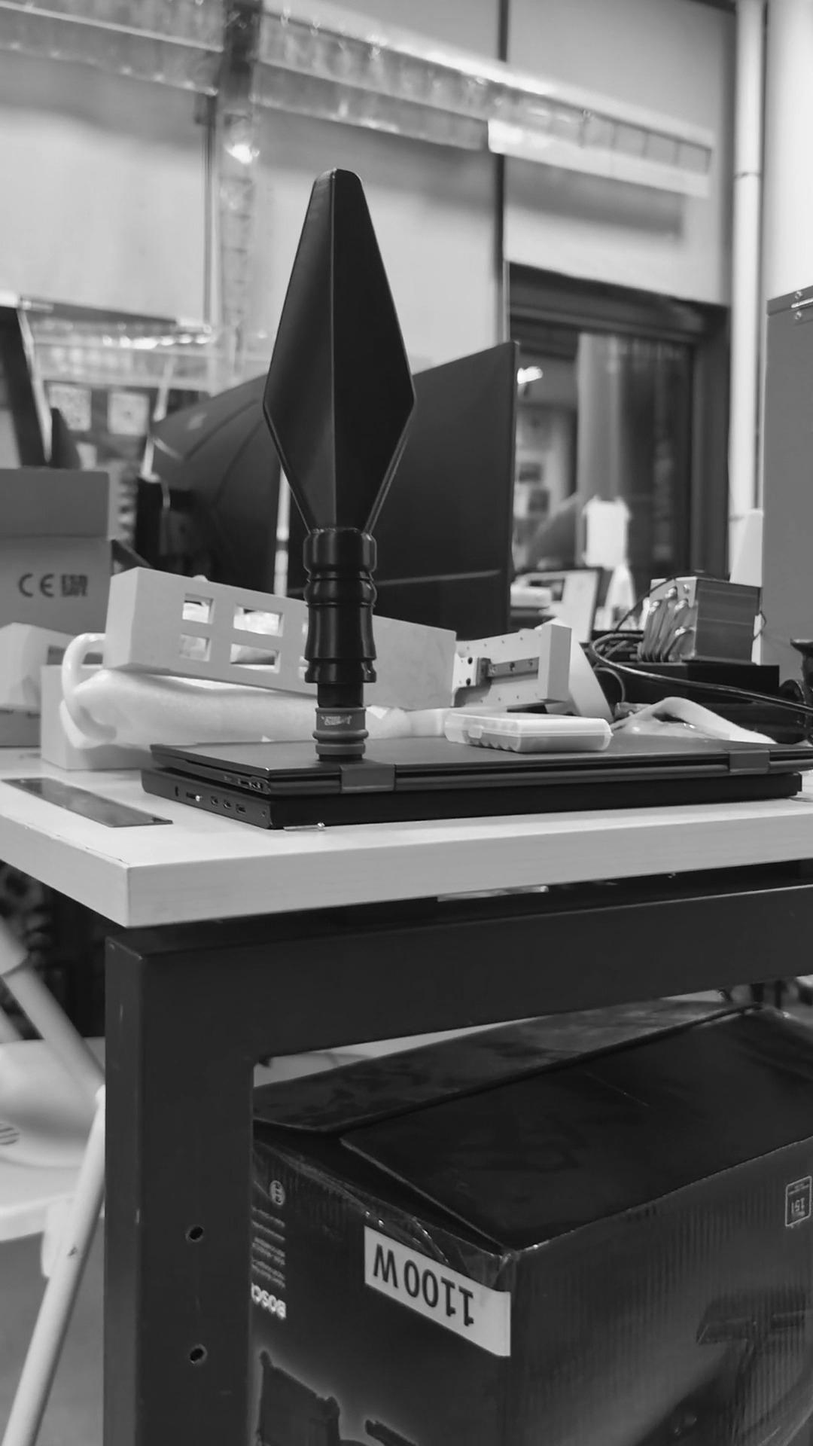base: (304, 701, 382, 770)
